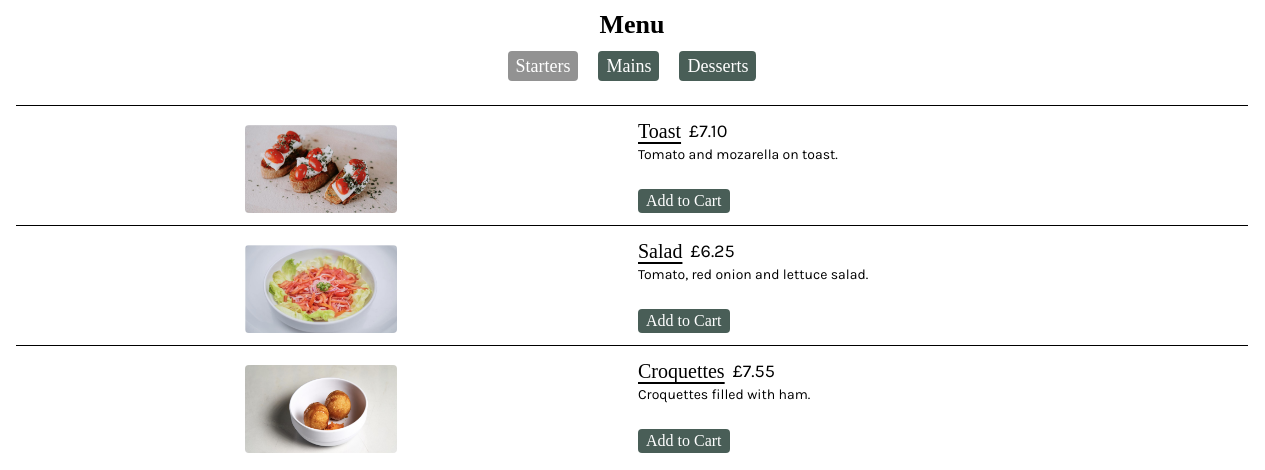
Scenario: Menu › correctly displays, when the mains need to be displayed.
Click the button "Mains". click: (629, 66)
box: x1=598 y1=51 x2=660 y2=81
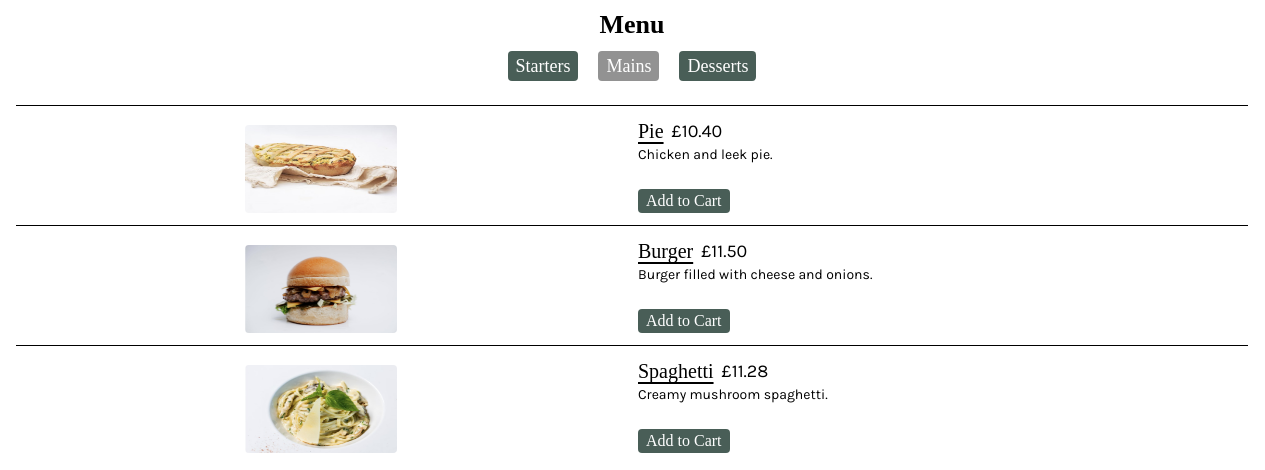
Check: the button "Starters" is enabled, box x1=508 y1=51 x2=578 y2=81
Check: the button "Mains" is disabled, box x1=598 y1=51 x2=660 y2=81
Check: the heading "Pie" is shown, box x1=638 y1=117 x2=664 y2=145
